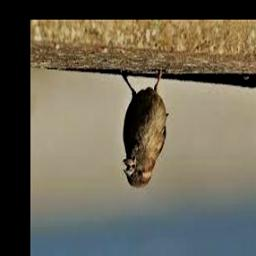Sparrow: (120, 71, 168, 189)
